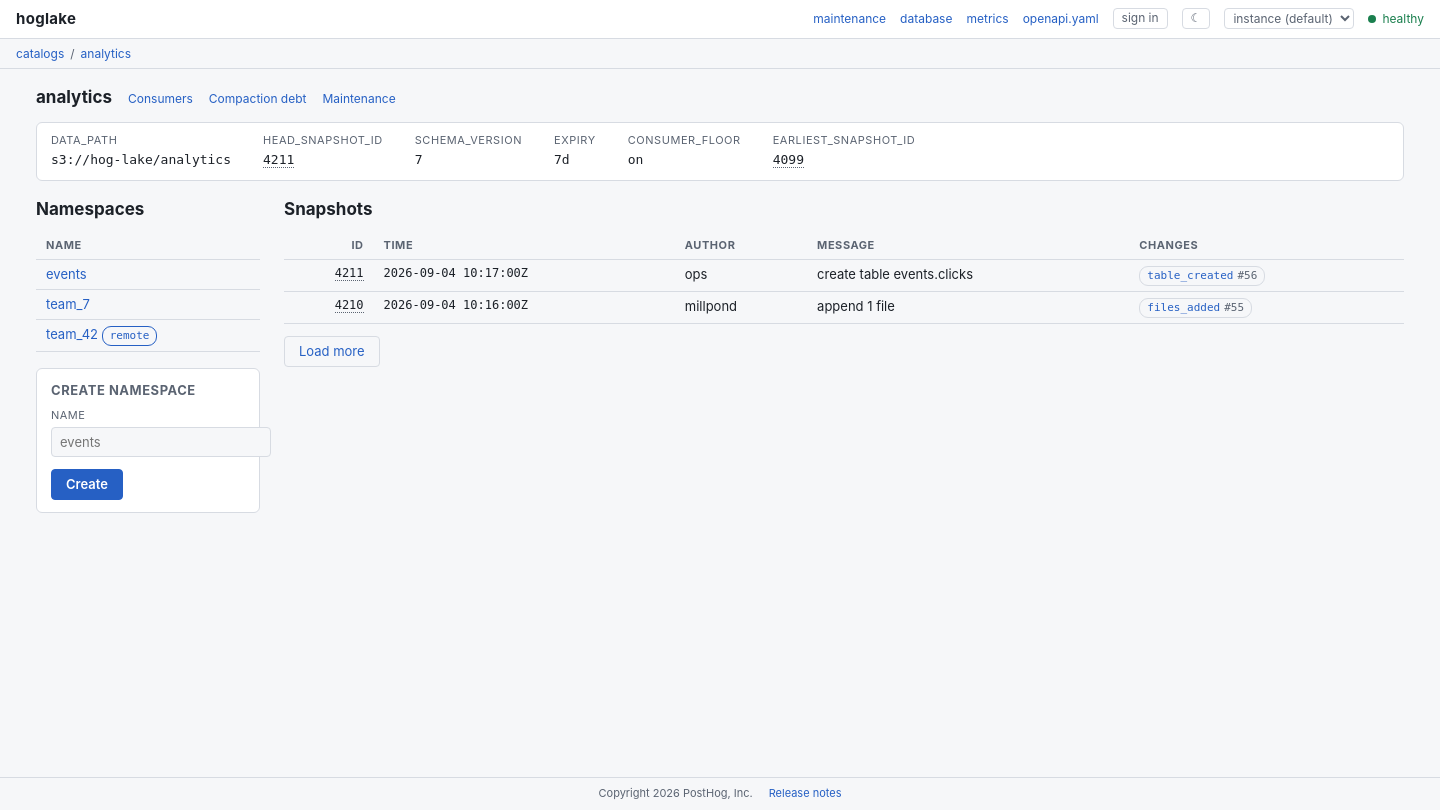
Scenario: remote schemas on the namespace page › asks get-namespace once, offers no form and links no snapshot id
Click the link "team_42": [72, 334] box x1=46 y1=326 x2=98 y2=342
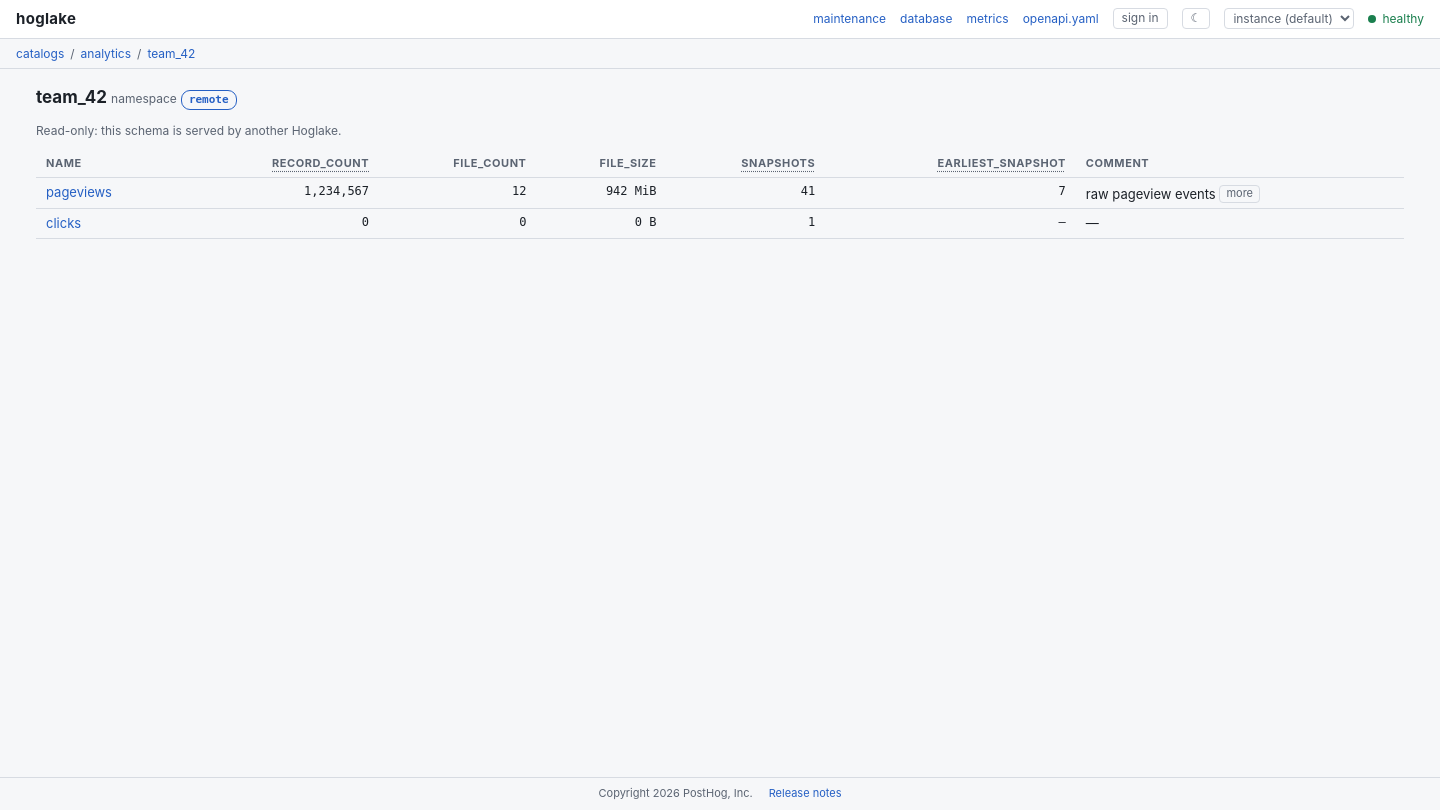
Expected: the text "remote" is shown, x1=181 y1=90 x2=237 y2=110
Expected: the text "Read-only: this schema is served by another Hoglake." is shown, x1=36 y1=123 x2=342 y2=138
Expected: the text "create table" is gone
